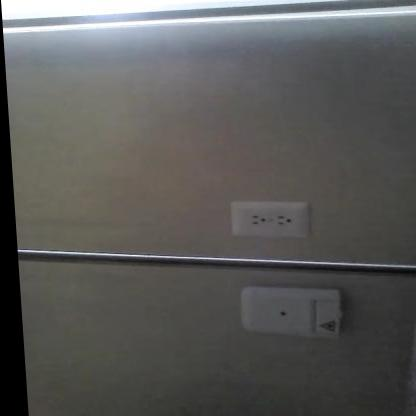OUTLET: (228, 201, 309, 237)
